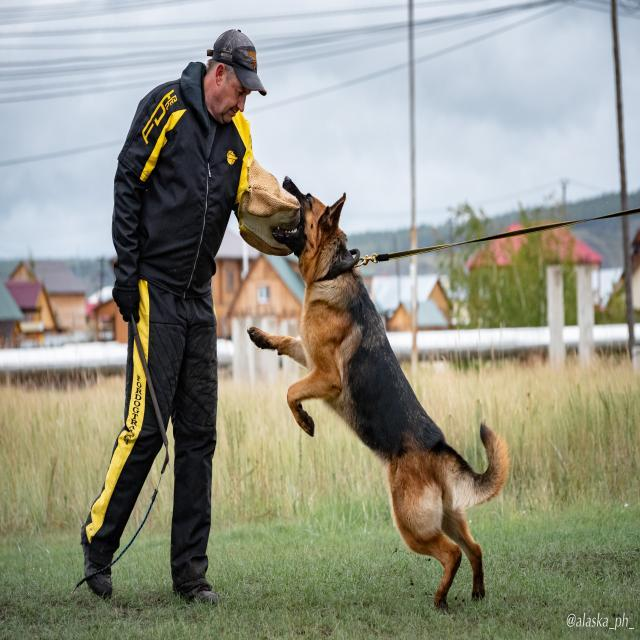Dogs: (246, 173, 514, 612)
